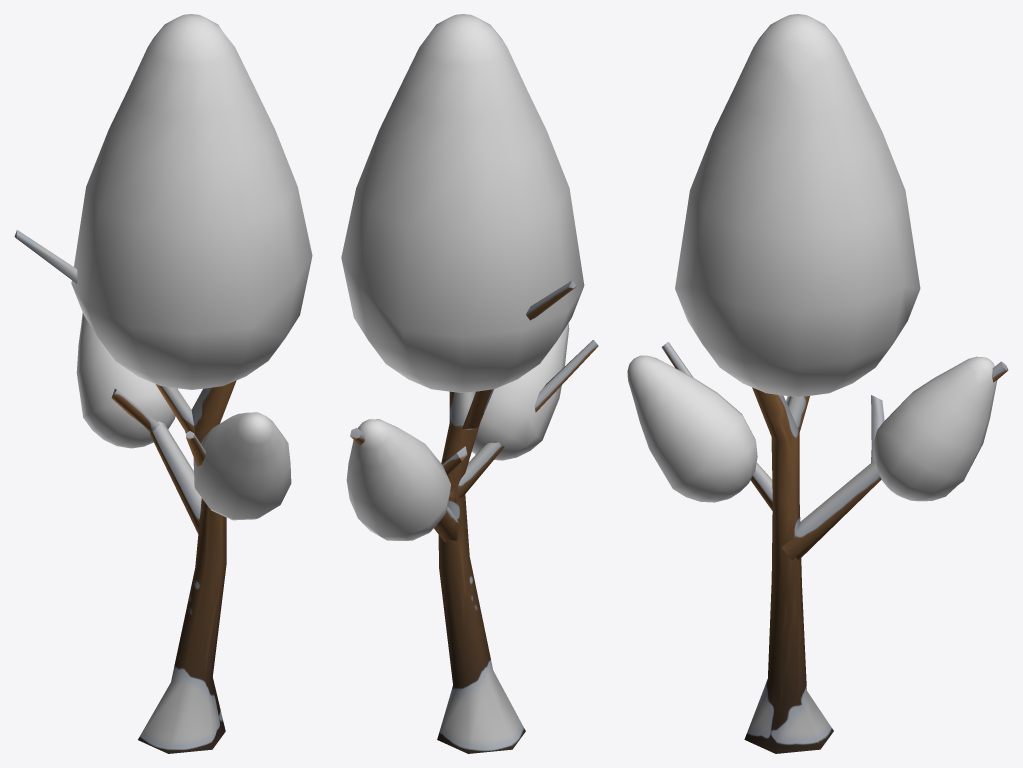
The model's file is Tree_B_4.fbx.
3 renders of one model, left to right at view 1: azimuth 30°, elevation 25°; view 2: azimuth 150°, elevation 25°; view 3: azimuth 270°, elevation 25°, orthographic.
Parts seen in each view (by area): view 1: Snow, Tree_B_4, Snow_2, Snow_1; view 2: Snow, Tree_B_4, Snow_1, Snow_2; view 3: Snow, Tree_B_4, Snow_2, Snow_1.
Part boxes in pixels (x1,y1,x2,y2): Snow: (71,14,312,389); Tree_B_4: (14,230,236,753); Snow_2: (193,412,291,520); Snow_1: (76,313,177,448); Snow: (341,14,584,392); Tree_B_4: (350,280,598,753); Snow_1: (346,419,450,540); Snow_2: (472,323,569,460); Snow: (675,14,920,397); Tree_B_4: (661,342,1008,753); Snow_2: (627,355,757,502); Snow_1: (873,356,997,501).
Bounding box in the file's own units: 248 × 678 × 323.
2 materials, 1 textured.
